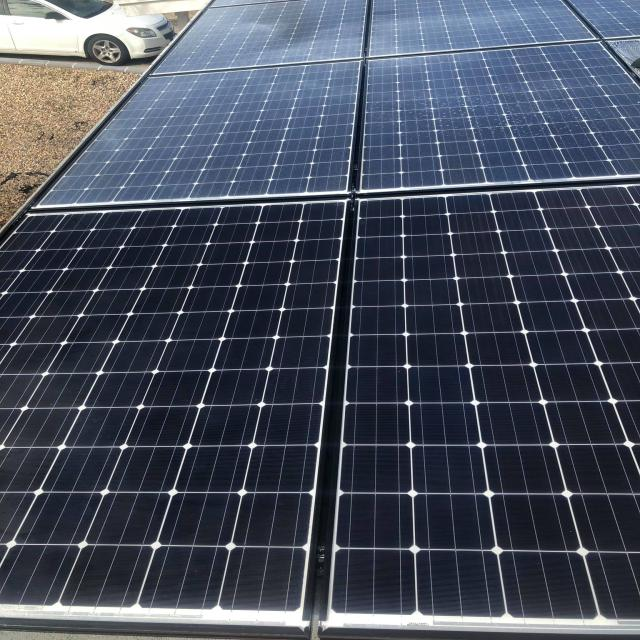clean-solar-panel: (2, 201, 345, 625), (328, 185, 638, 626)
dust-solar-panel: (35, 0, 638, 209)
